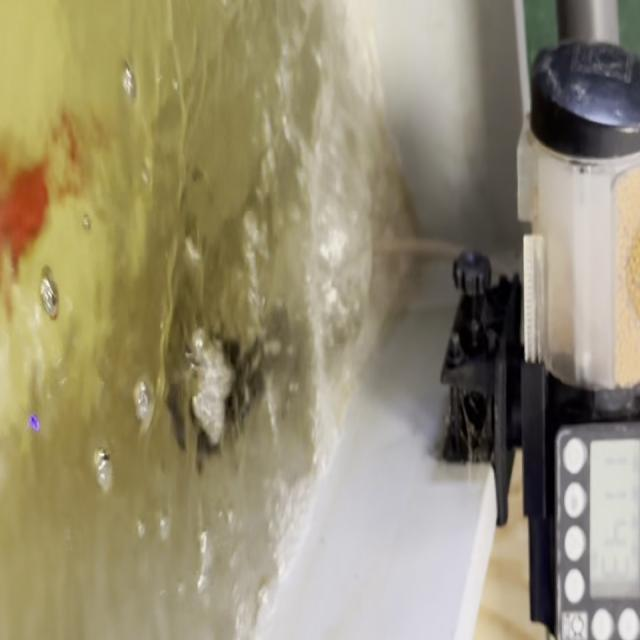fish: (0, 139, 57, 300)
